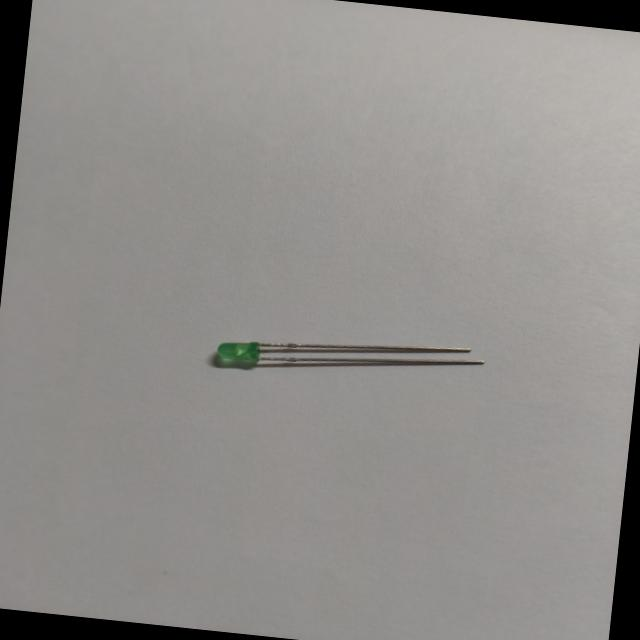led: (188, 309, 493, 404)
